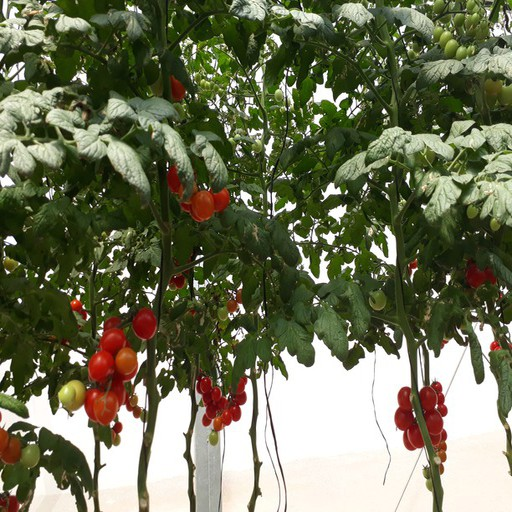green tomato bunch: (433, 26, 489, 58), (434, 1, 488, 29), (466, 203, 512, 230), (479, 68, 512, 105), (223, 133, 263, 154), (194, 77, 222, 92)
mixed tomato bunch: (1, 417, 41, 470), (213, 287, 245, 321)
red tomato bunch: (82, 308, 157, 424), (168, 164, 231, 225), (206, 374, 246, 448), (396, 387, 442, 448), (422, 381, 447, 489), (463, 254, 509, 304), (197, 375, 228, 419), (54, 300, 85, 343), (164, 246, 193, 289), (491, 339, 512, 354)
